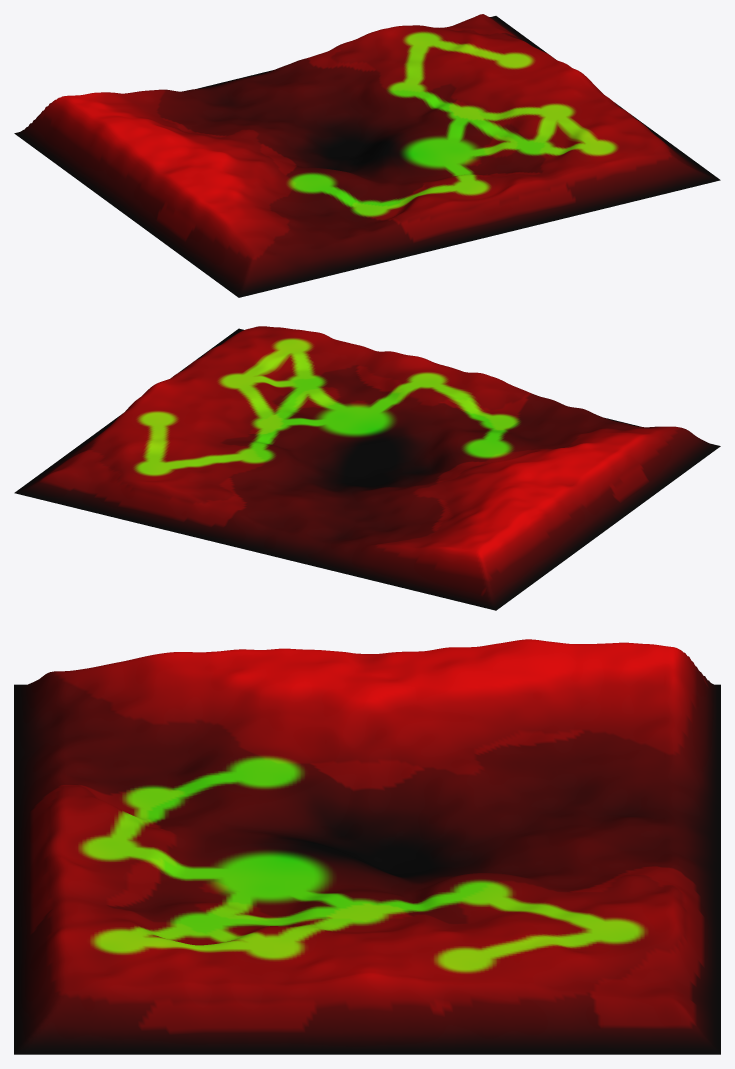
Rendered from terrain.fbx.
3 renders of one model, top to bottom at view 1: azimuth 30°, elevation 25°; view 2: azimuth 150°, elevation 25°; view 3: azimuth 270°, elevation 25°, orthographic. The views are drawn at different scales.
Parts seen in each view (by area): view 1: Terrain; view 2: Terrain; view 3: Terrain.
Part boxes in pixels (bbox=[...]): Terrain: bbox=[14, 14, 720, 297]; Terrain: bbox=[14, 326, 720, 610]; Terrain: bbox=[14, 639, 720, 1054].
Bounding box in the file's own units: 10400 × 983 × 8400.
